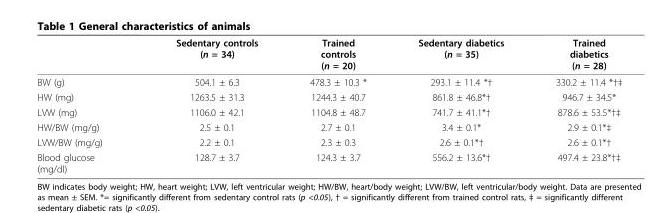table: (36, 36, 621, 173)
table column: (138, 36, 283, 173), (391, 36, 529, 173), (283, 36, 391, 173), (36, 36, 138, 173), (529, 36, 621, 173)
table column header: (36, 36, 621, 73)
table row: (36, 36, 621, 73), (36, 149, 621, 173), (36, 73, 621, 89), (36, 89, 621, 104), (36, 104, 621, 119), (36, 119, 621, 134), (36, 134, 621, 149)
